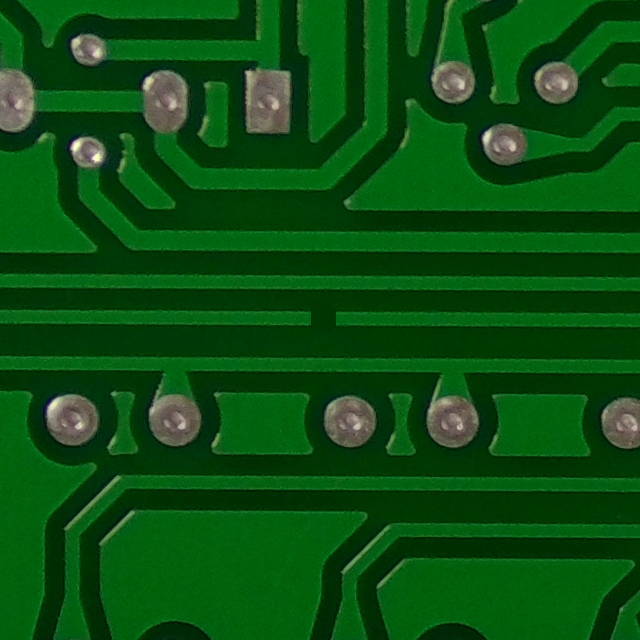open_circuit: (291, 296, 350, 344)
